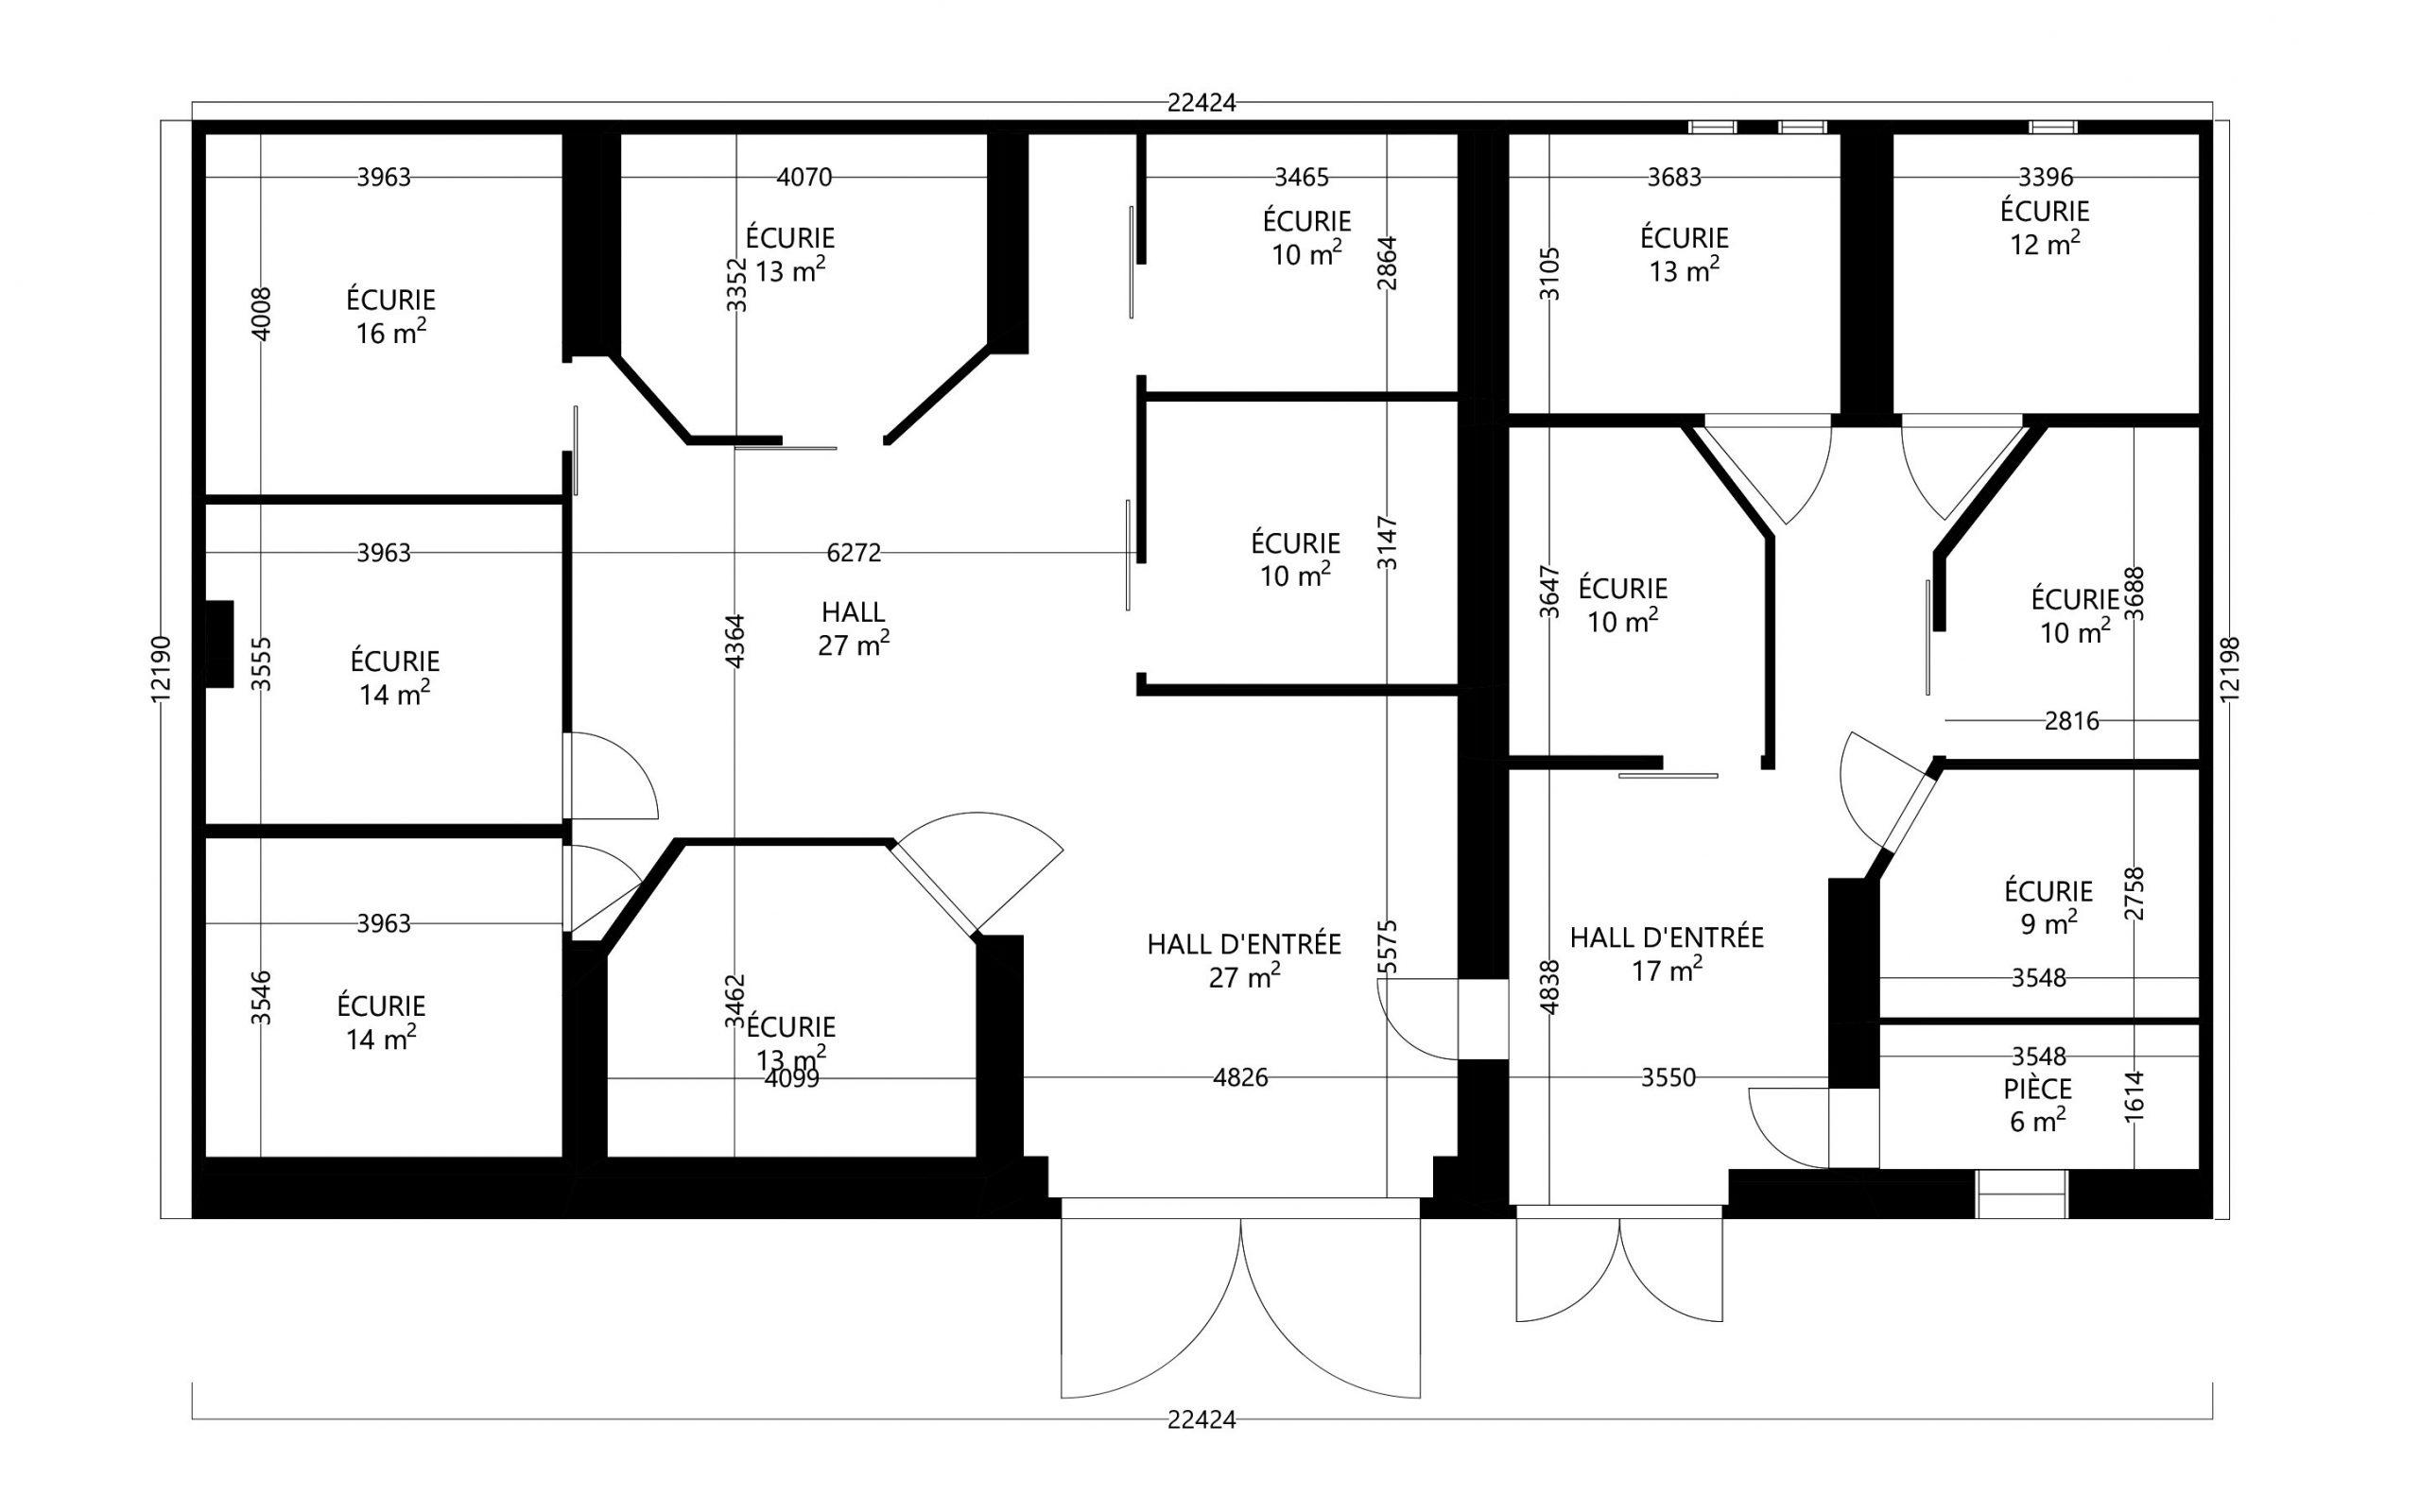room: (589, 125, 1014, 451), (591, 840, 1002, 1172), (200, 127, 566, 496), (200, 831, 570, 1172), (200, 498, 566, 831), (1498, 125, 1847, 415), (1141, 395, 1465, 690), (1882, 124, 2206, 418), (1937, 418, 2206, 761), (1857, 763, 2207, 1021), (1141, 132, 1467, 394), (1862, 1019, 2204, 1181)
